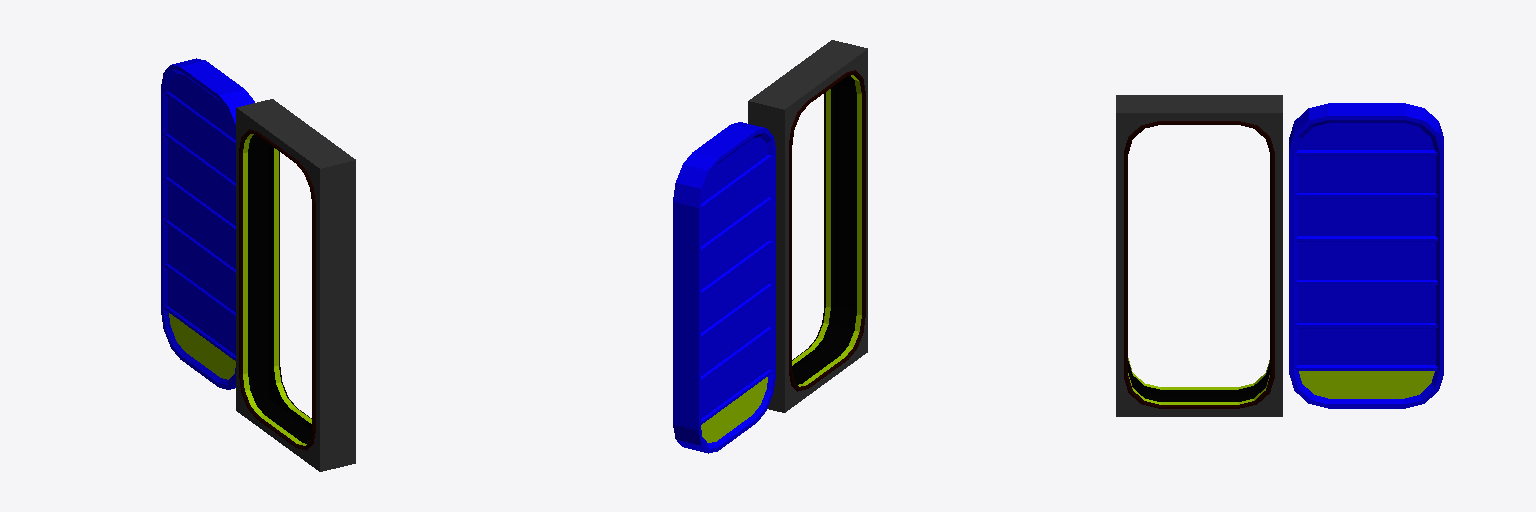
File: sliding_seal_door.obj
The picture shows the model from 3 angles: view 1: azimuth 30°, elevation 25°; view 2: azimuth 150°, elevation 25°; view 3: azimuth 270°, elevation 25°; orthographic projection.
Parts seen in each view (by area): view 1: Cube_Cube.001, Cube.001_Cube.003; view 2: Cube.001_Cube.003, Cube_Cube.001; view 3: Cube.001_Cube.003, Cube_Cube.001.
Boxes of the visible parts, box(x1,y1,x2,y2) form: Cube_Cube.001: box(236, 99, 355, 471); Cube.001_Cube.003: box(161, 58, 254, 389); Cube.001_Cube.003: box(673, 122, 775, 453); Cube_Cube.001: box(748, 40, 867, 412); Cube.001_Cube.003: box(1289, 103, 1443, 408); Cube_Cube.001: box(1116, 95, 1282, 416).
Size of the model in its own units: 0.2786 by 2 by 1.96.